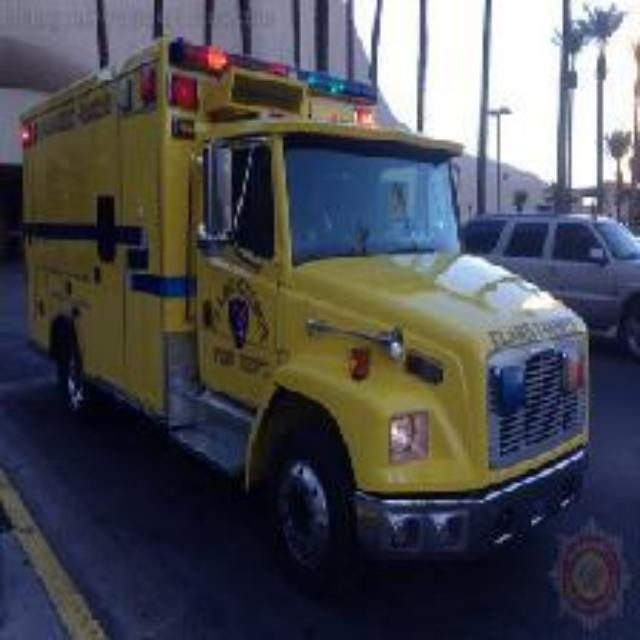emergency: (4, 51, 590, 548)
